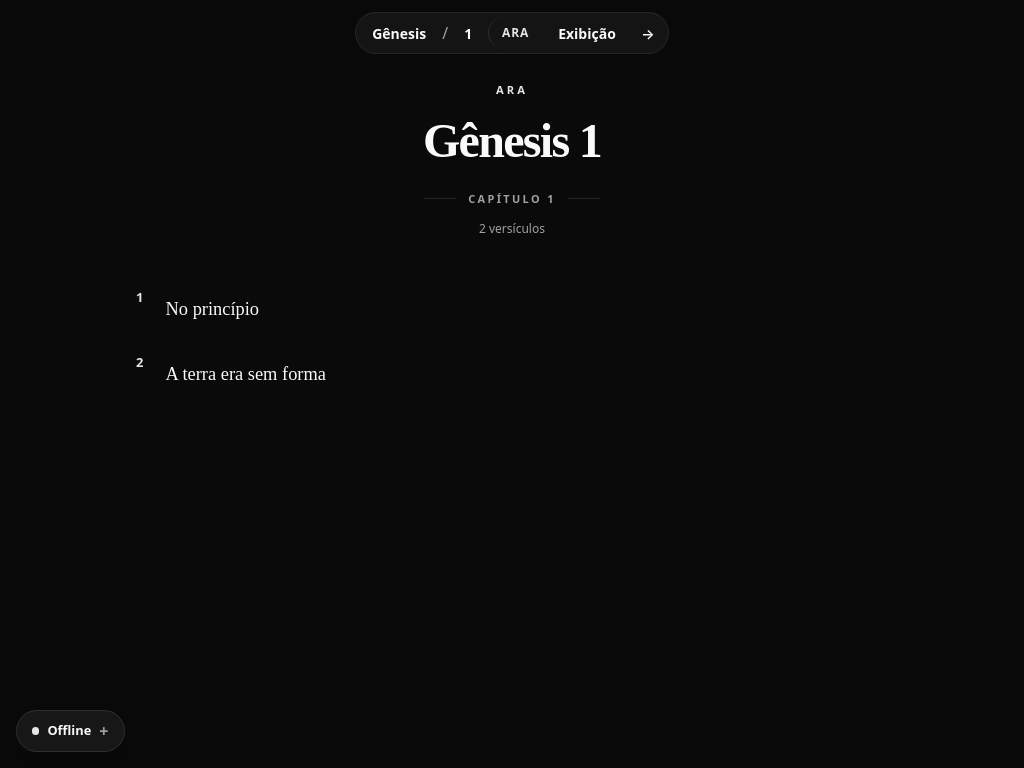
Test case: seleção de versículos › abre um popover nomeado ao alternar um versículo focável
Expected: the heading "Gênesis 1" is shown, top-left (423, 114), bottom-right (601, 167)
Click the button with aria-label "Versículo 1: No princípio" at point(212, 309), box top-left (128, 286), bottom-right (896, 334)
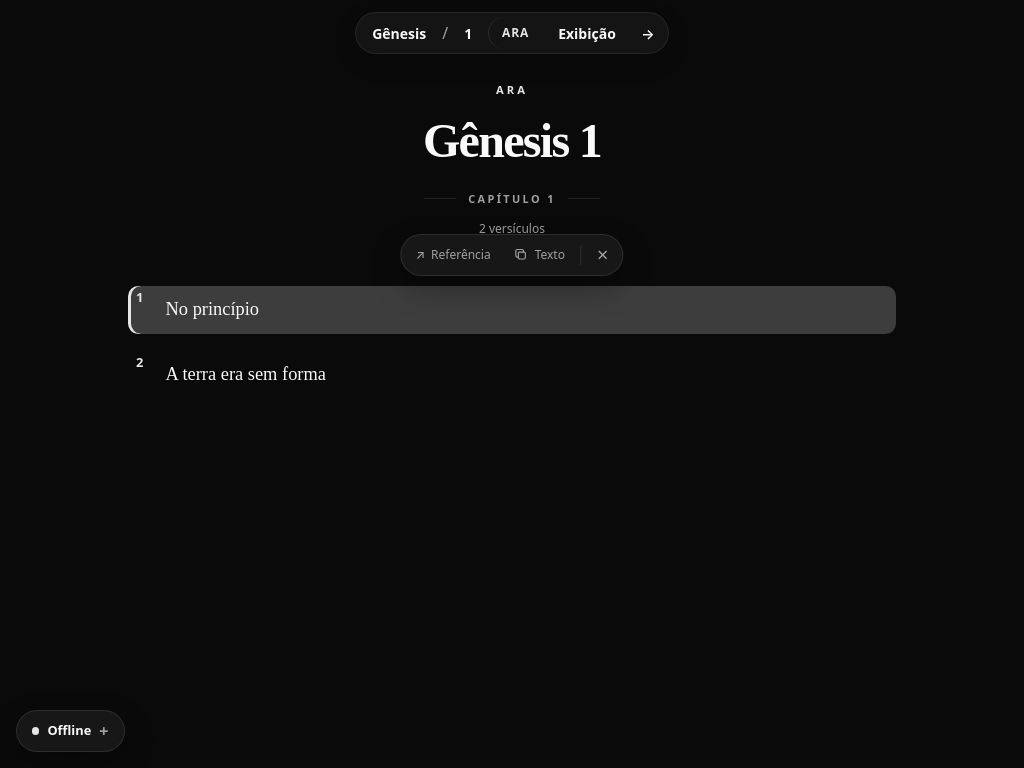
Expected: the dialog named "Ações dos versículos selecionados" is shown, top-left (400, 234), bottom-right (624, 276)
Expected: the button with aria-label "Copiar referência" is shown, top-left (405, 239), bottom-right (501, 271)
Expected: the button with aria-label "Copiar texto" is shown, top-left (503, 239), bottom-right (575, 271)
